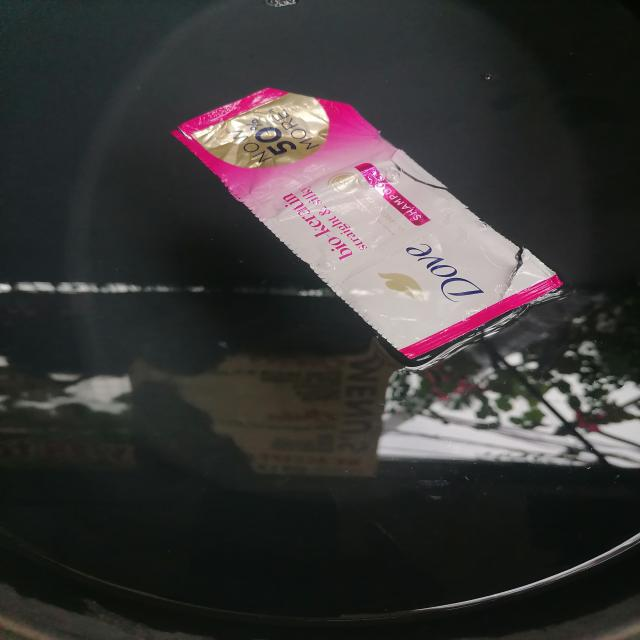Plastic Wrapper: (160, 75, 582, 373)
